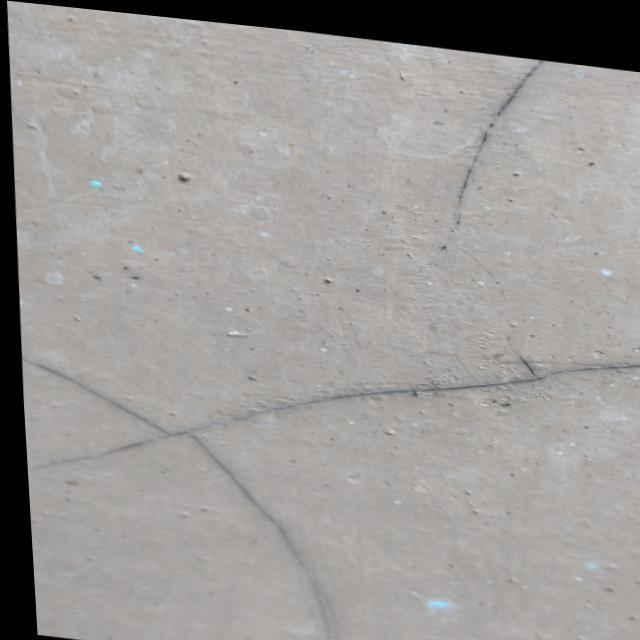Crack: (28, 350, 639, 468)
